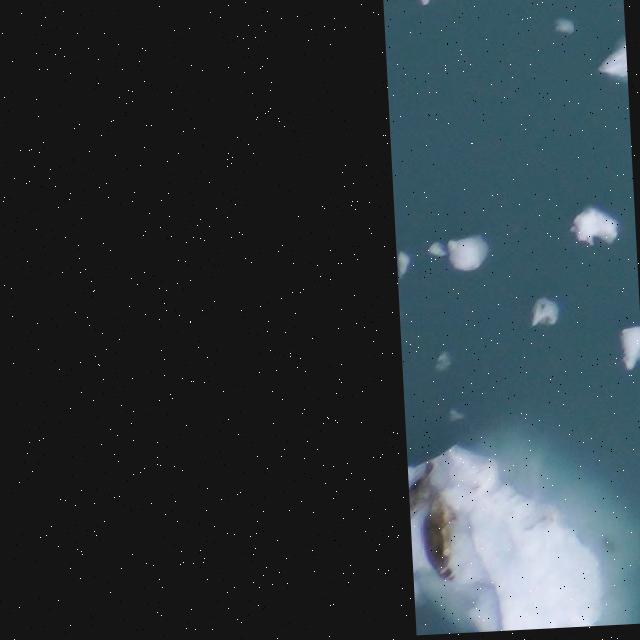seal: (417, 484, 463, 582)
